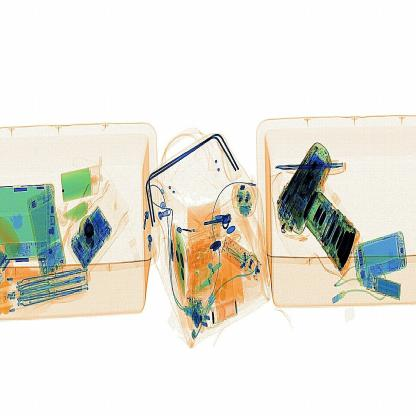pliers: (273, 158, 354, 180)
